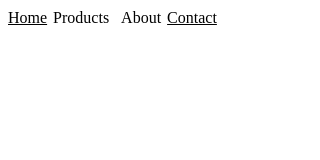
Test case: Nav › keeps one flyout at a time on a bar
This screenshot has width=320, height=160.
Click the button "Products": (81, 18) [47,8,115,28]
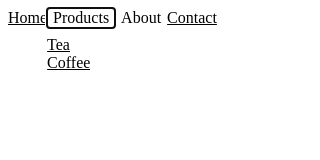
Result: the button "Products" is expanded at [47,8,115,28]
Click the button "About": (141, 18) [115,8,167,28]
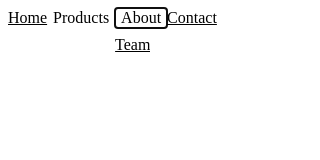
Result: the button "About" is expanded at [115,8,167,28]
Result: the button "Products" is collapsed at [47,8,115,28]
